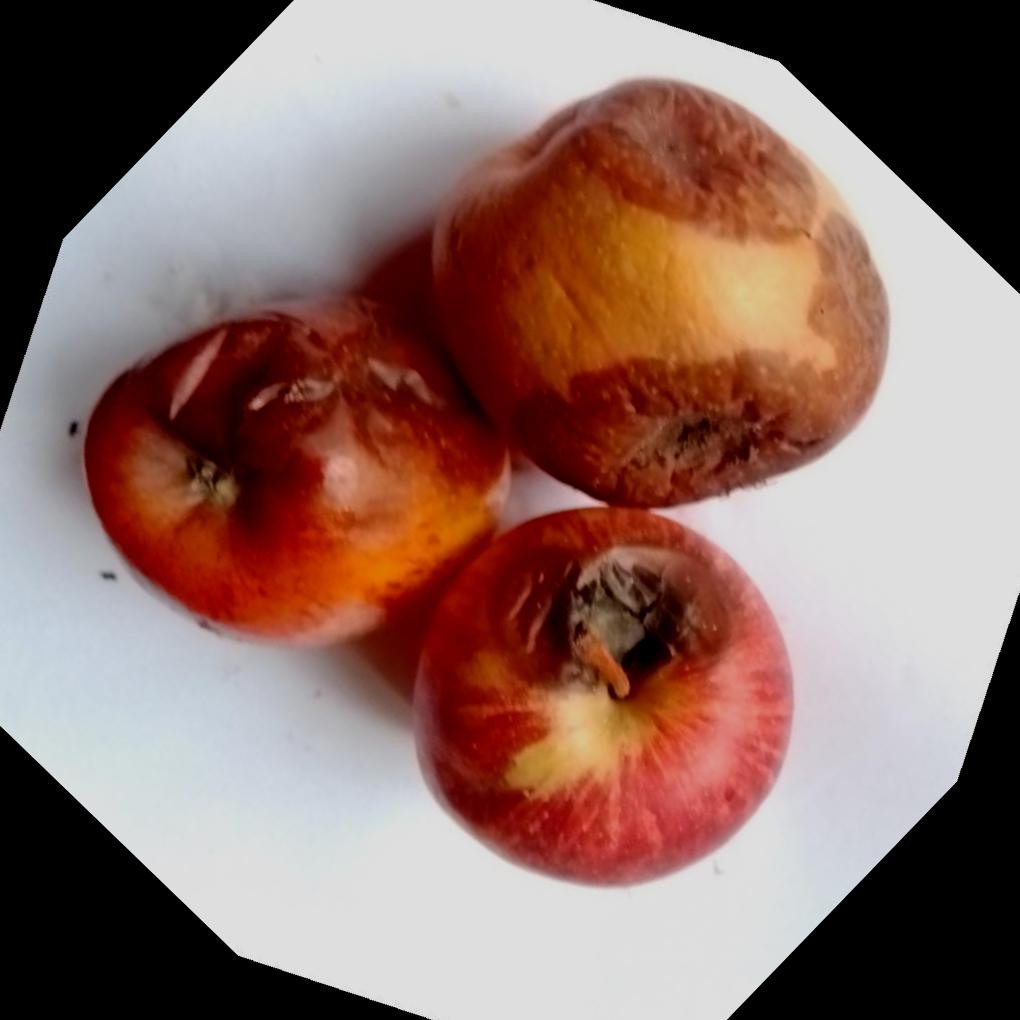FreshOrange: (86, 78, 891, 888)
